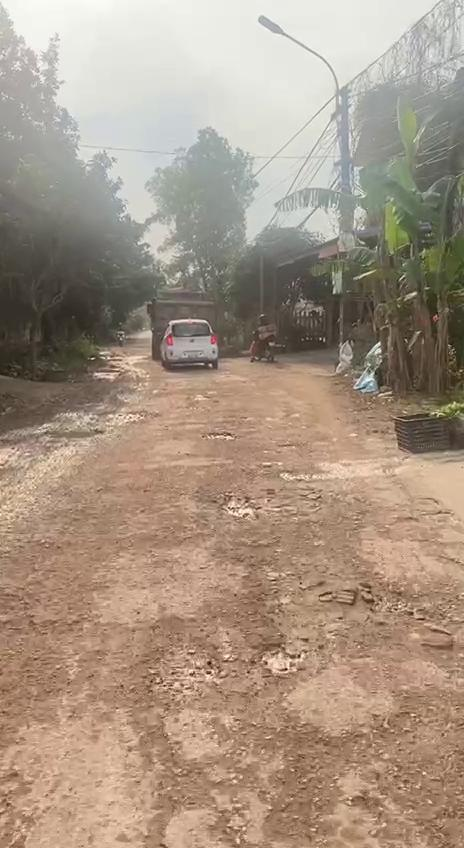pothole: (139, 638, 228, 698), (251, 638, 303, 686), (218, 490, 258, 522), (106, 408, 159, 430), (44, 426, 106, 441), (205, 429, 237, 444)
